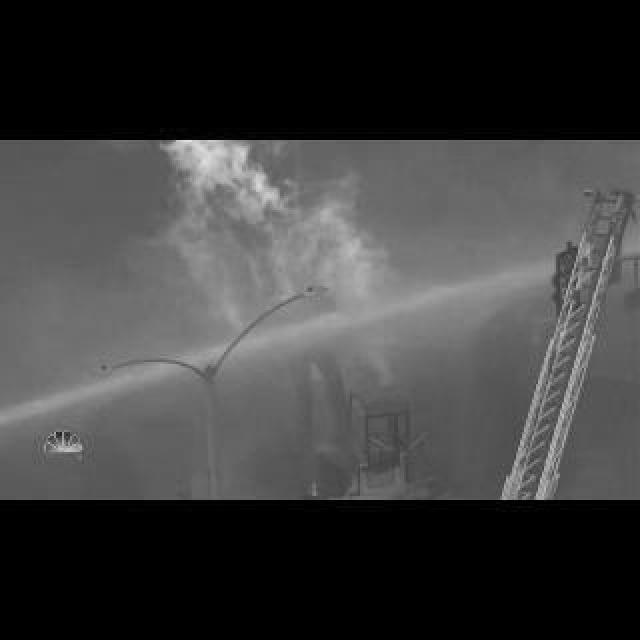Fire: (140, 138, 390, 336)
